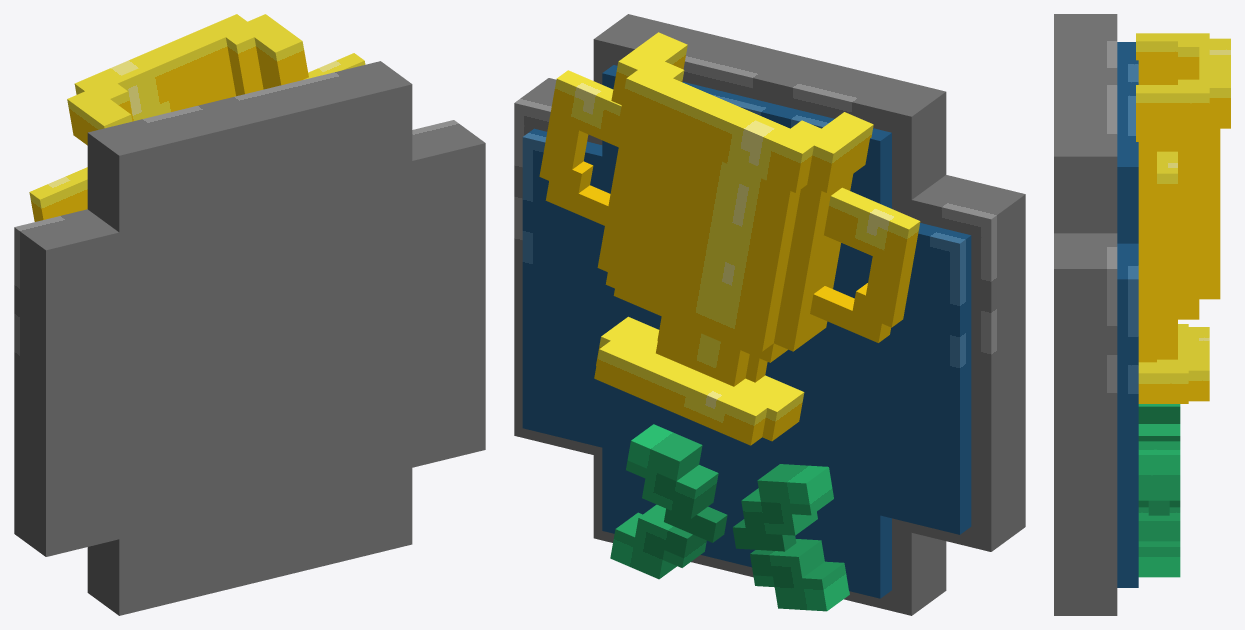
3 views of the same model, side by side, from view 1: azimuth 30°, elevation 25°; view 2: azimuth 150°, elevation 25°; view 3: azimuth 270°, elevation 25° (orthographic). The views are drawn at different scales.
Visible parts, largest first — view 1: Main1.001, Main2.001, Icon.001; view 2: Main2.001, Icon.001, Main1.001, LaurelsR1.001, LaurelsL1.001; view 3: Icon.001, Main2.001, Main1.001, LaurelsR1.001, LaurelsL1.001.
Part boxes in pixels (x1,y1,x2,y2): Main1.001: (87, 61, 412, 615); Main2.001: (14, 120, 485, 556); Icon.001: (29, 14, 365, 221); Main2.001: (514, 78, 1025, 551); Icon.001: (539, 32, 920, 445); Main1.001: (593, 14, 946, 615); LaurelsR1.001: (610, 424, 727, 579); LaurelsL1.001: (732, 464, 849, 611); Icon.001: (1136, 33, 1230, 403); Main2.001: (1054, 233, 1138, 574); Main1.001: (1054, 14, 1138, 615); LaurelsR1.001: (1138, 441, 1180, 577); LaurelsL1.001: (1138, 404, 1180, 507).
Size of the model in its own units: 48 by 51.13 by 16.74.
5 materials, 5 textured.
